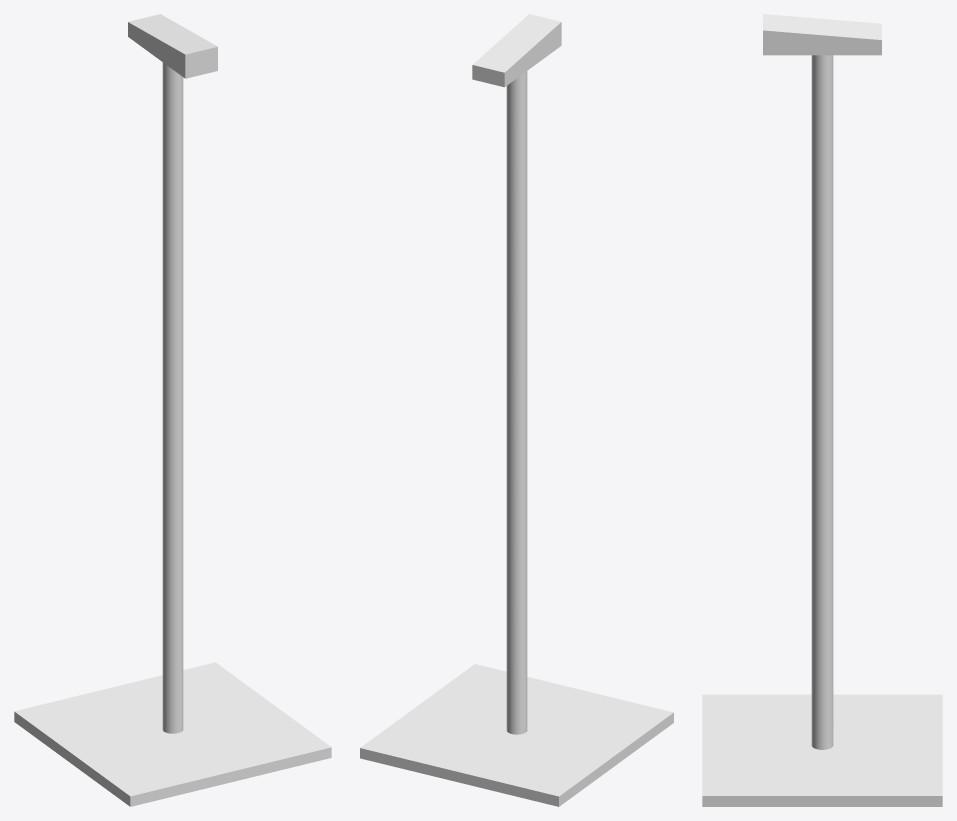
File: windturbin_base.fbx
3 renders of one model, left to right at view 1: azimuth 30°, elevation 25°; view 2: azimuth 150°, elevation 25°; view 3: azimuth 270°, elevation 25°, orthographic. The views are drawn at different scales.
Visible parts, largest first — view 1: base, pall, base2; view 2: base, pall, base2; view 3: base, pall, base2.
Boxes of the visible parts, x1,y1,x2,y2 form: base: (14, 662, 331, 806); pall: (162, 62, 183, 733); base2: (128, 14, 217, 78); base: (360, 664, 673, 806); pall: (506, 71, 527, 734); base2: (472, 14, 561, 87); base: (702, 694, 942, 806); pall: (811, 55, 833, 749); base2: (763, 14, 881, 55).
Bounding box in the file's own units: 61.33 × 207 × 61.33.
